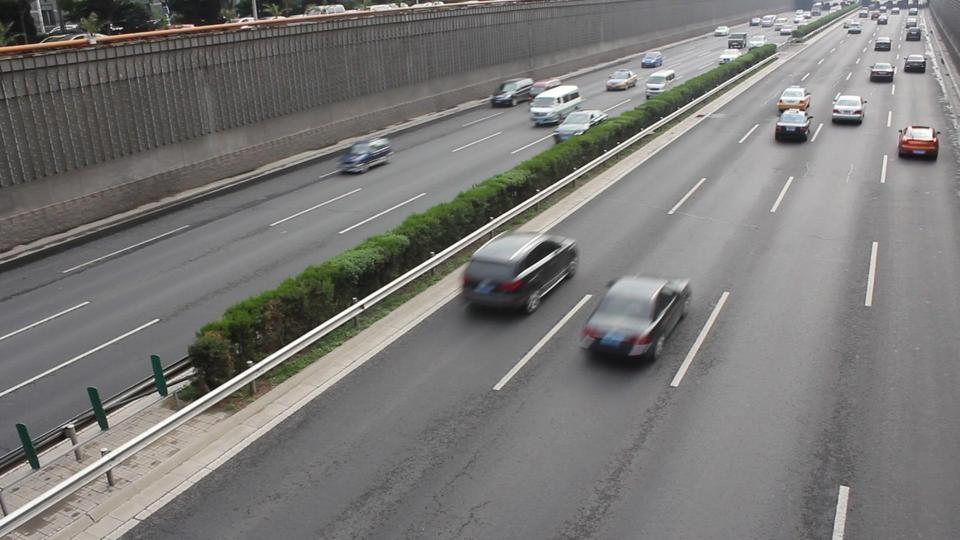car: (578, 274, 693, 363), (460, 231, 579, 315), (528, 84, 583, 126), (337, 138, 393, 175), (552, 109, 608, 143), (897, 125, 941, 161), (773, 109, 813, 144), (489, 77, 534, 108), (830, 94, 866, 125), (776, 85, 813, 113), (646, 69, 676, 96), (605, 68, 638, 91), (868, 60, 896, 83), (904, 53, 927, 73), (640, 51, 664, 69), (874, 34, 892, 51), (906, 26, 922, 41), (845, 22, 862, 34)
